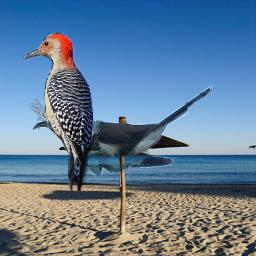Cuckoo: (33, 85, 218, 177)
Woodpecker: (23, 32, 94, 191)
